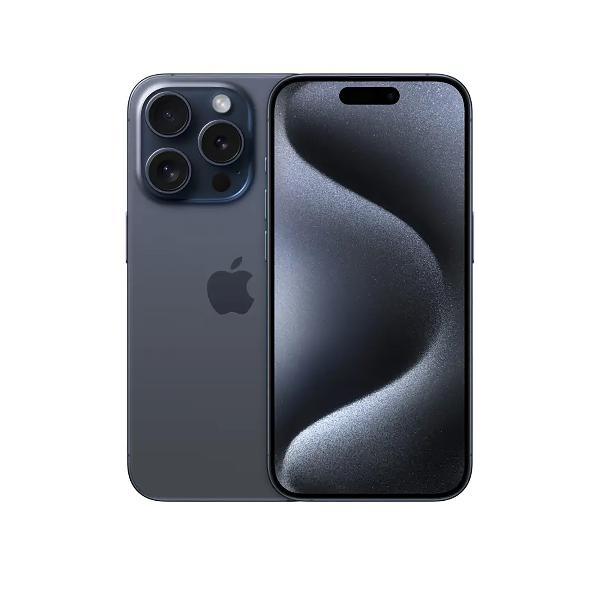IPHONE: (123, 62, 483, 509), (263, 63, 478, 504), (125, 64, 270, 505)
